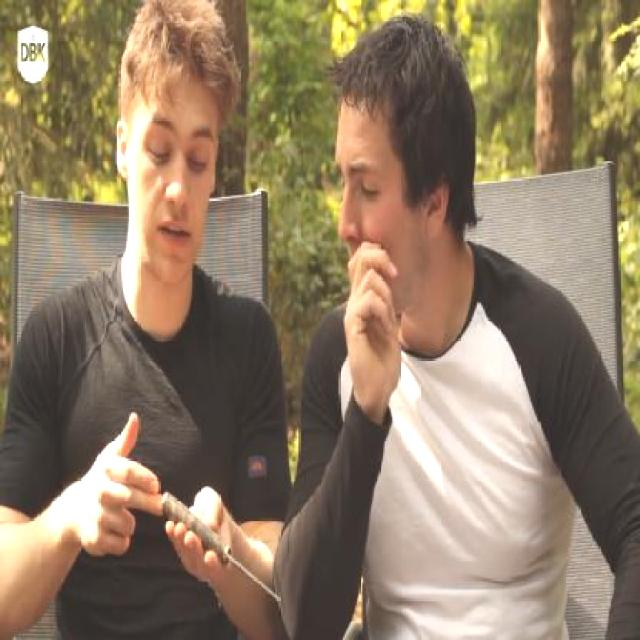knife: (157, 477, 289, 612)
